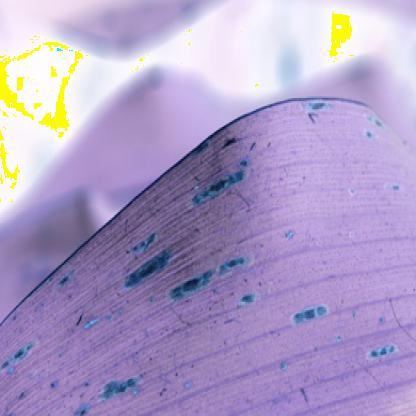Corn Gray leaf spot: (2, 100, 413, 414)
